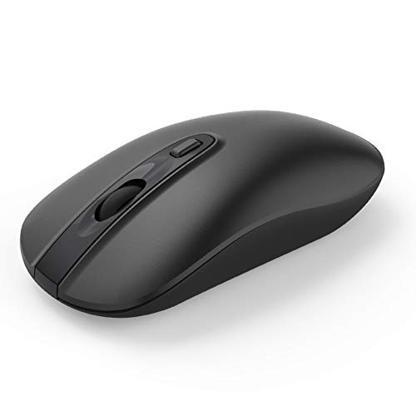not trash: (18, 106, 386, 318)
